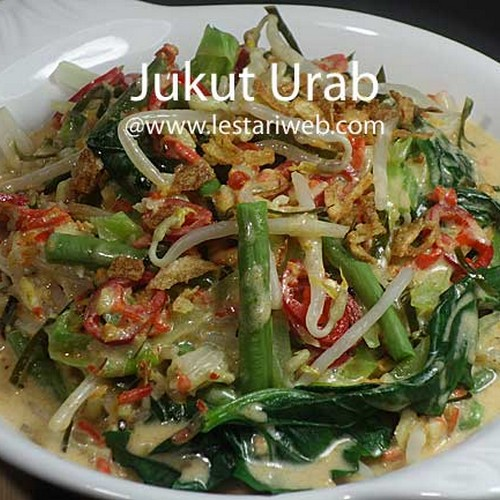jukut urap: (27, 37, 478, 453)
